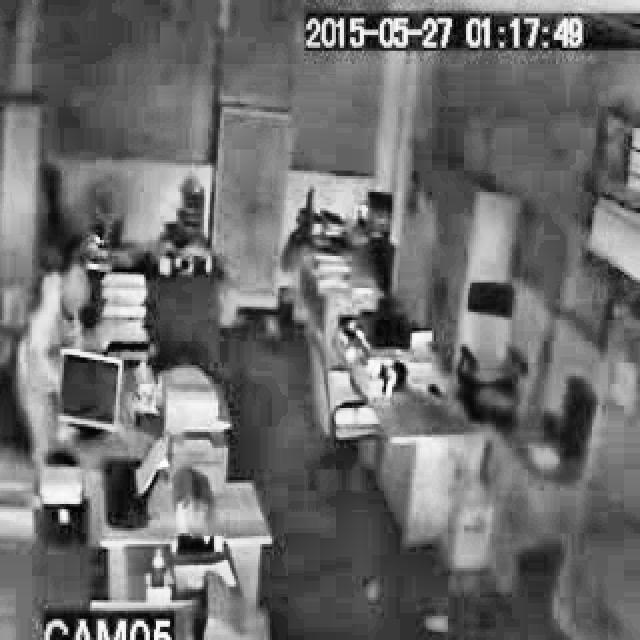burglary: (11, 254, 126, 483)
